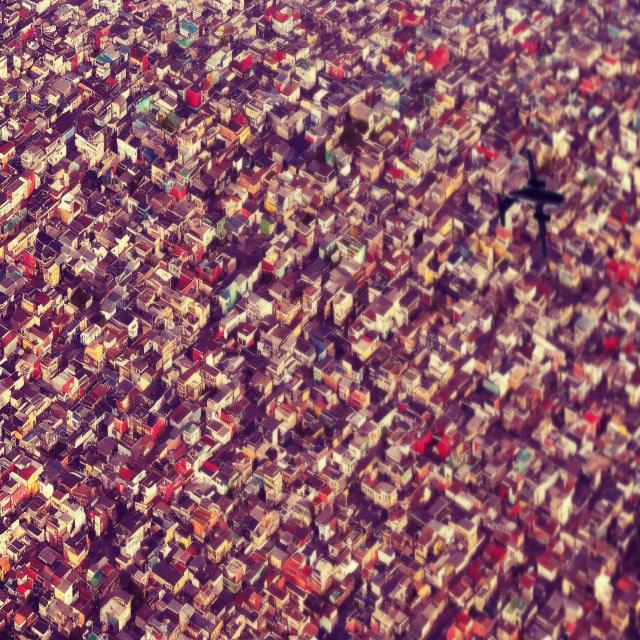airplane: (496, 147, 565, 258)
